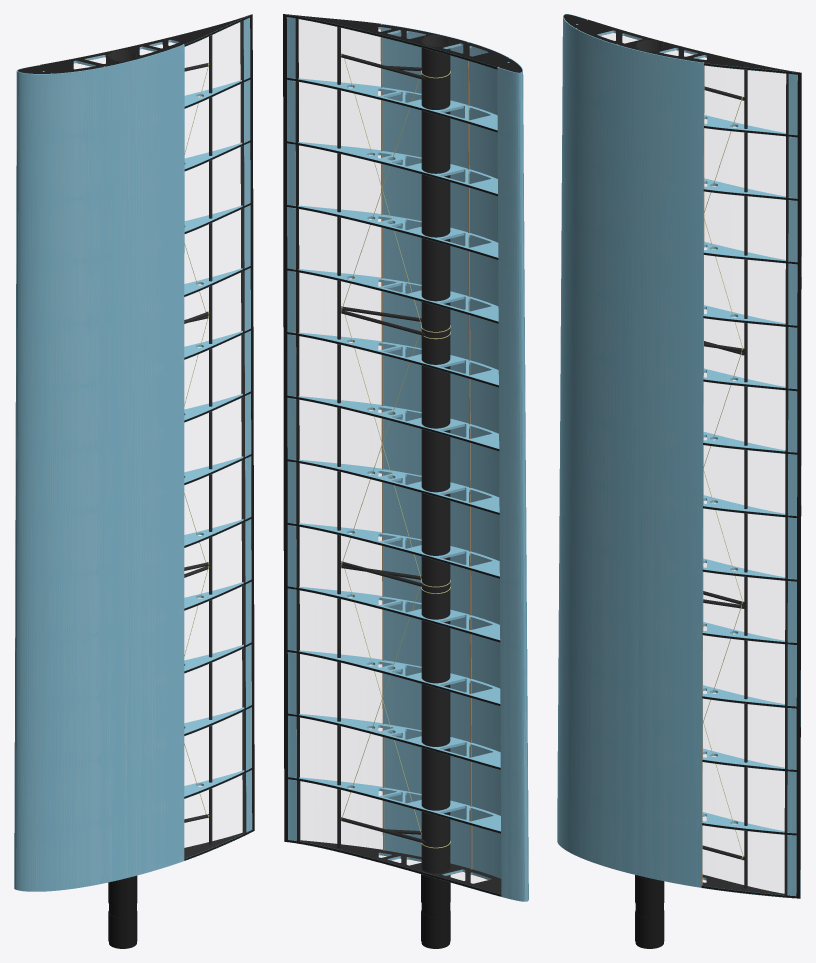
The model's file is batch_test_out.glb.
3 views of the same model, side by side, from view 1: azimuth 30°, elevation 25°; view 2: azimuth 150°, elevation 25°; view 3: azimuth 330°, elevation 25° (orthographic).
Visible parts, largest first — view 1: Plank_Skin, Film_Skin, Ribs, TE_Skin, Rear_Spar, TE_Cap_1, Rib_Cap, CarbonRibs, TE_Cap_2, TE_Cap_0, JointSleeve_Skin_0, JointSleeve_Skin_1 (+1 smaller); view 2: Plank_Skin, Film_Skin, Ribs, Main_Spar, Rib_Cap, TE_Skin, CarbonRibs, TE_Cap_3, Rear_Spar, TE_Cap_2, Stringer_3, Stringer_1 (+3 smaller); view 3: Plank_Skin, Film_Skin, TE_Skin, Ribs, TE_Cap_1, Rib_Cap, Rear_Spar, TE_Cap_0, CarbonRibs, JointSleeve_Skin_0, JointSleeve_Skin_1, Stringer_1 (+1 smaller).
Part boxes in pixels (x1,y1,x2,y2): Plank_Skin: (14, 44, 184, 891); Film_Skin: (74, 23, 242, 847); Ribs: (42, 17, 247, 860); TE_Skin: (243, 15, 252, 831); Rear_Spar: (209, 30, 212, 844); TE_Cap_1: (250, 14, 254, 831); Rib_Cap: (184, 16, 254, 860); CarbonRibs: (17, 14, 251, 858); TE_Cap_2: (240, 21, 244, 832); TE_Cap_0: (242, 20, 246, 835); JointSleeve_Skin_0: (108, 911, 137, 946); JointSleeve_Skin_1: (108, 875, 137, 908); Plank_Skin: (381, 24, 528, 901); Film_Skin: (299, 20, 486, 883); Ribs: (293, 16, 509, 896); Main_Spar: (421, 35, 450, 948); Rib_Cap: (283, 14, 501, 896); TE_Skin: (286, 14, 296, 840); CarbonRibs: (284, 14, 522, 894); TE_Cap_3: (283, 14, 287, 841); Rear_Spar: (337, 20, 340, 848); TE_Cap_2: (295, 16, 299, 843); Stringer_3: (467, 42, 472, 869); Stringer_1: (380, 24, 384, 850); Plank_Skin: (557, 14, 704, 887); Film_Skin: (602, 33, 785, 893); TE_Skin: (787, 71, 801, 897); Ribs: (576, 24, 791, 897); TE_Cap_1: (796, 72, 801, 898); Rib_Cap: (701, 63, 801, 898); Rear_Spar: (744, 65, 747, 888); TE_Cap_0: (784, 71, 788, 897); CarbonRibs: (563, 14, 799, 898); JointSleeve_Skin_0: (635, 910, 664, 946); JointSleeve_Skin_1: (635, 875, 664, 907); Stringer_1: (702, 62, 704, 884).
Size of the model in its own units: 1.05 by 3.71 by 0.1543.
